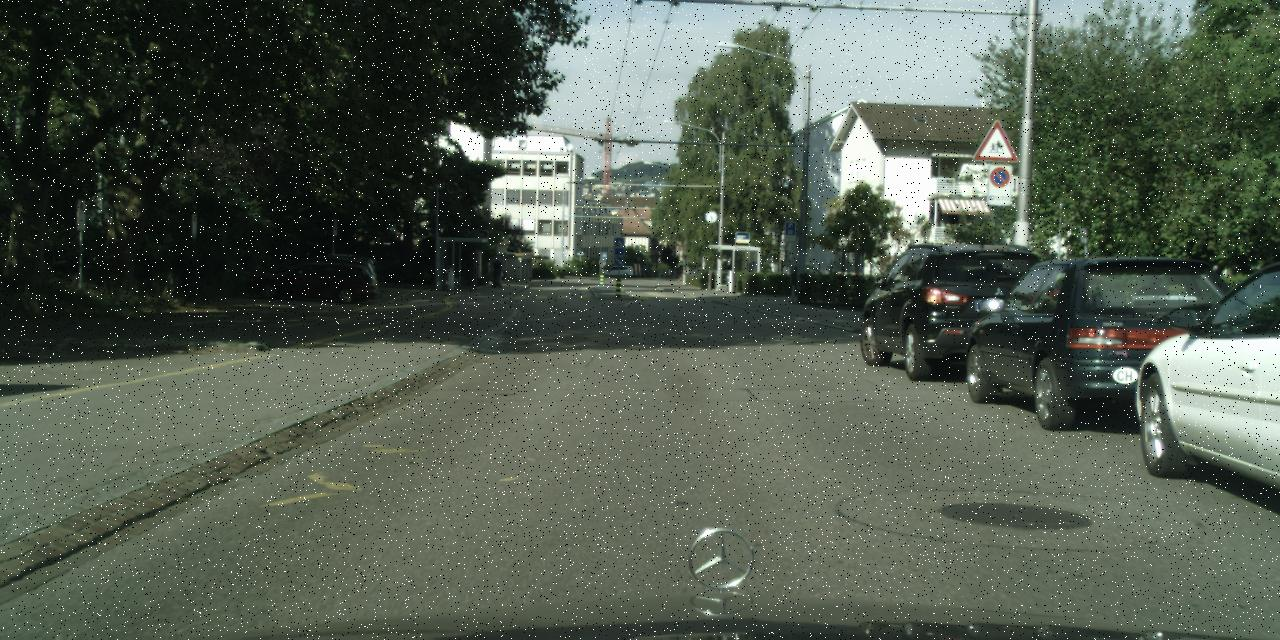ped: (491, 257, 502, 287)
